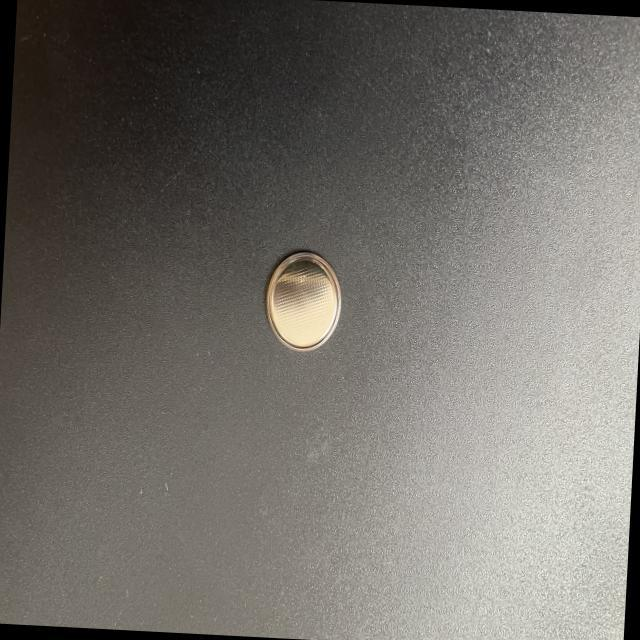COIN: (260, 246, 344, 356)
